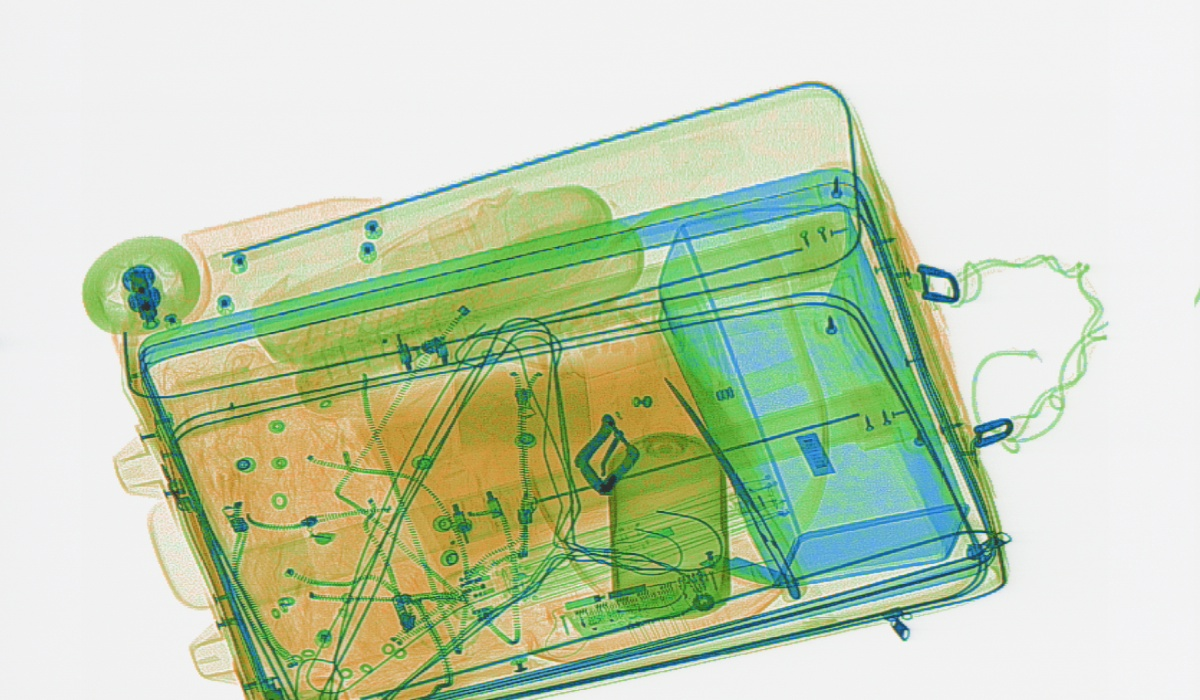knife: (663, 372, 803, 600), (698, 549, 830, 612)
